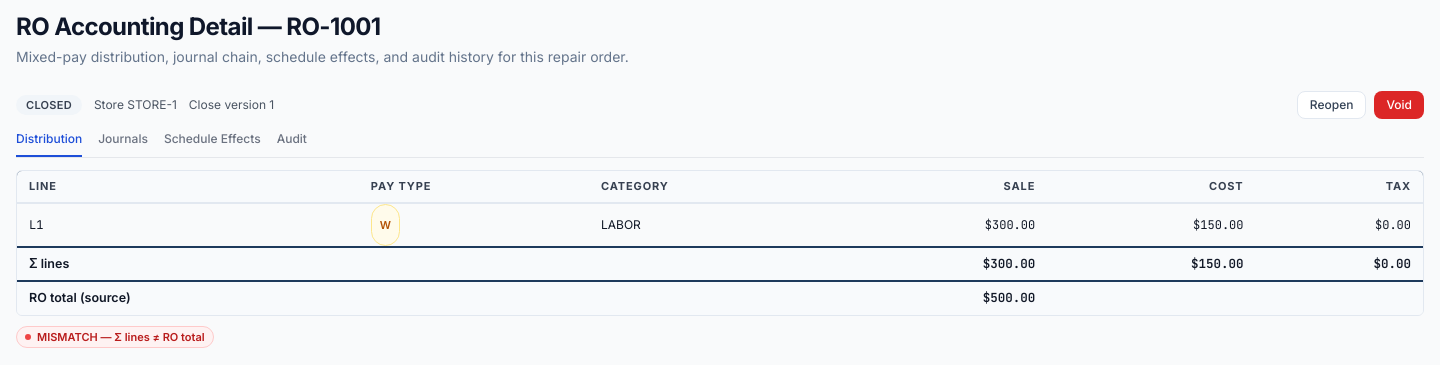
Test: RoAccountingDetail › switches tabs: journals shows the reversal chain, schedule shows the PENDING_CE07 banner
Check: the table with test id "ro-distribution-table" is shown, box [17,171,1423,315]
Click the button with test id "ro-detail-tab-journals" at (123, 144), box [98,131,148,157]
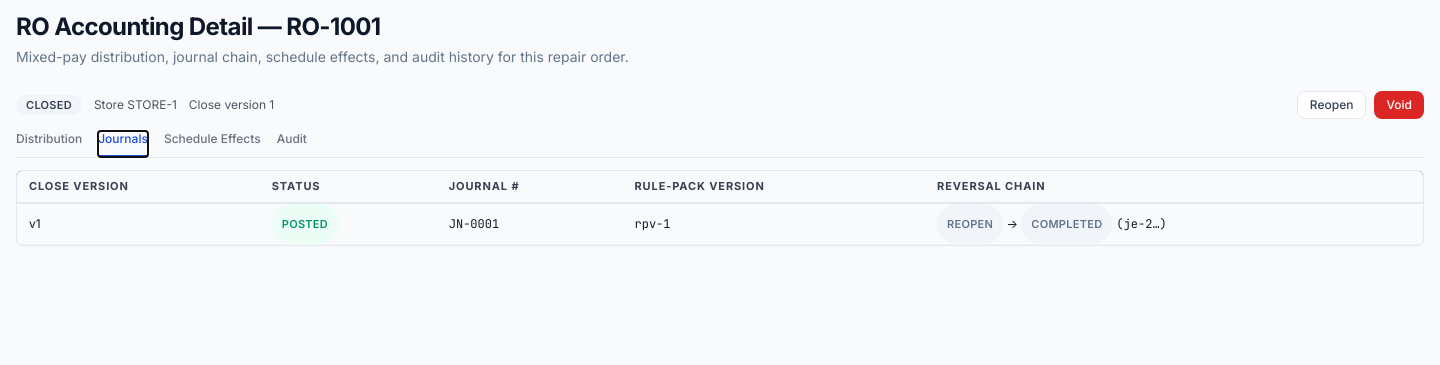
Check: the element with test id "ro-reversal-pair-v1" is shown, box [937,216,1167,231]
Click the button with test id "ro-detail-tab-schedule" at (212, 144), box [164,131,261,157]
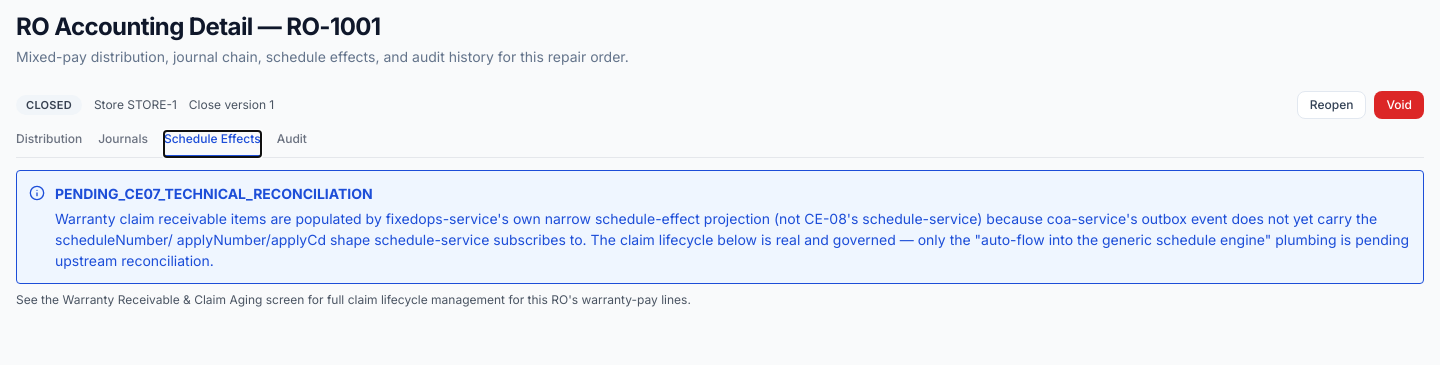
Check: the element with test id "ro-schedule-pending-banner" is shown, box [16,170,1424,284]
